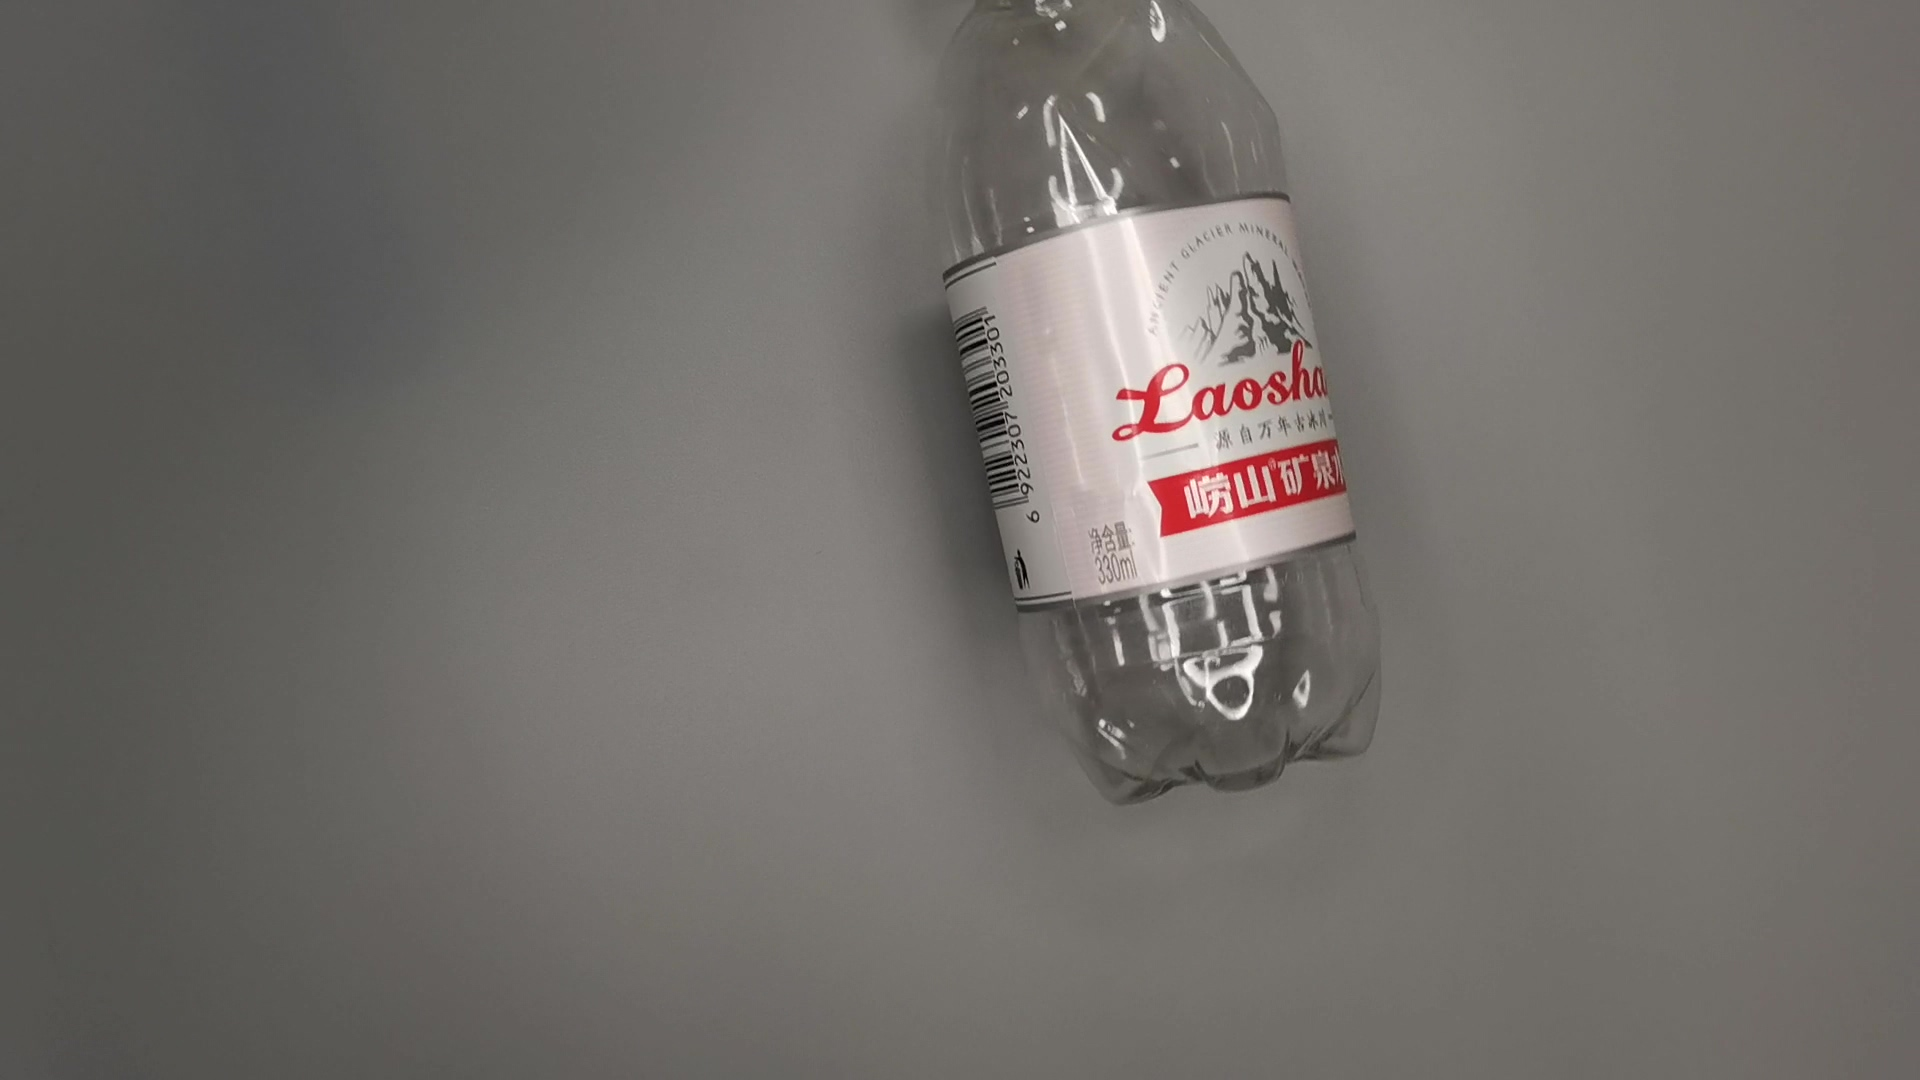bottle: (918, 1, 1398, 820)
